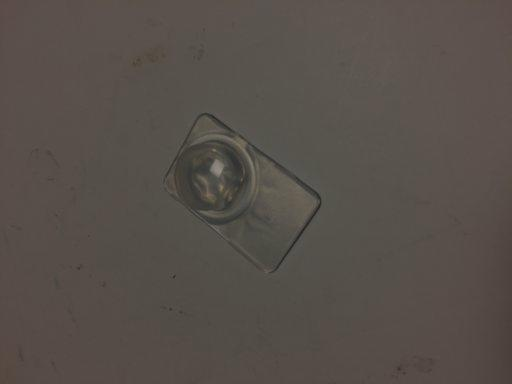trash: (164, 111, 321, 277)
